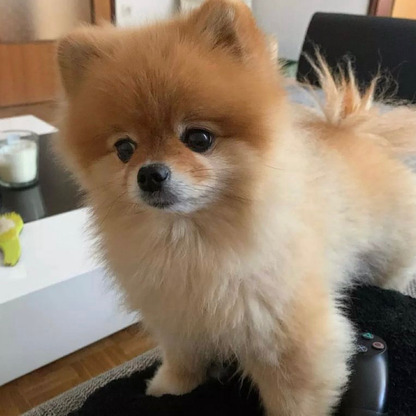Pomeranian: (54, 24, 398, 390)
